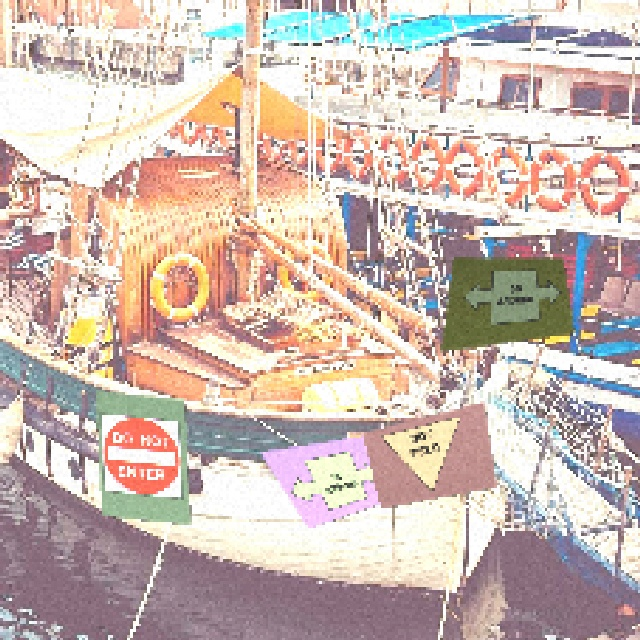DO_NOT_ENTER: (98, 411, 181, 497)
GO_AROUND: (272, 442, 385, 520), (458, 267, 562, 327)
NOT_YIELD: (378, 414, 470, 500)
